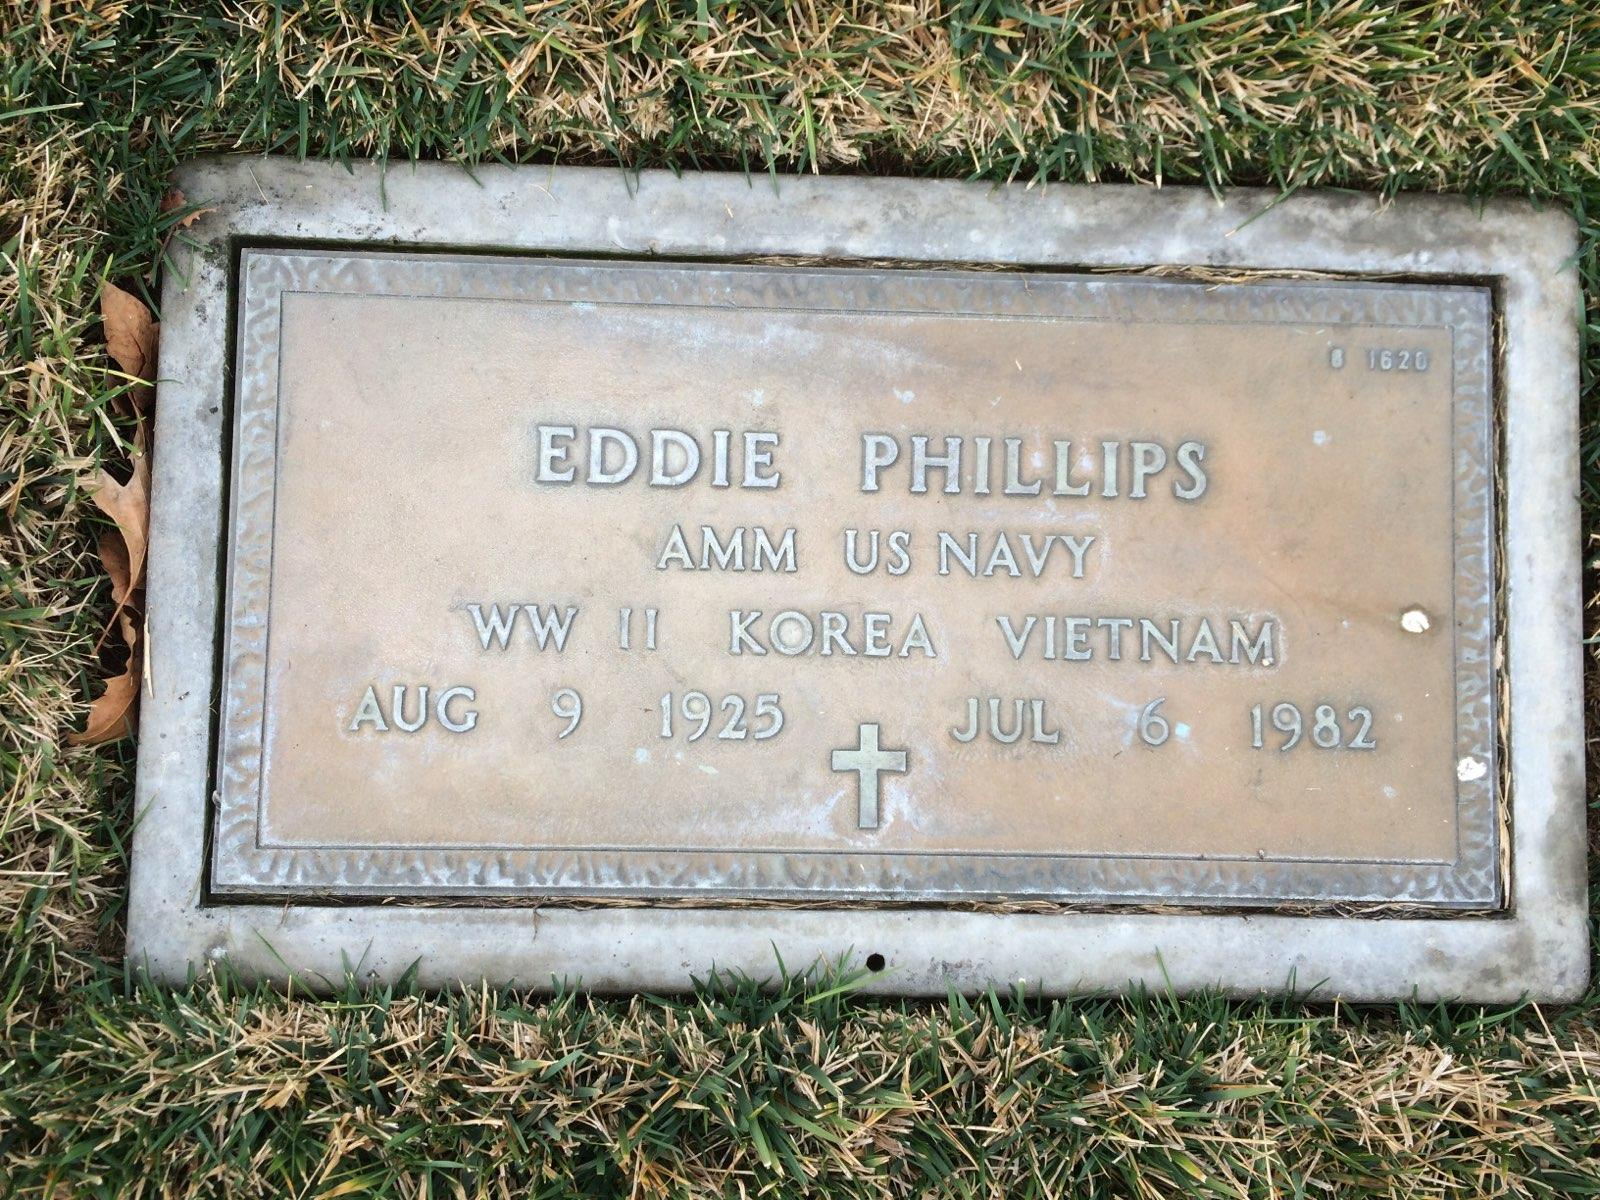flat: (118, 140, 1600, 1010)
